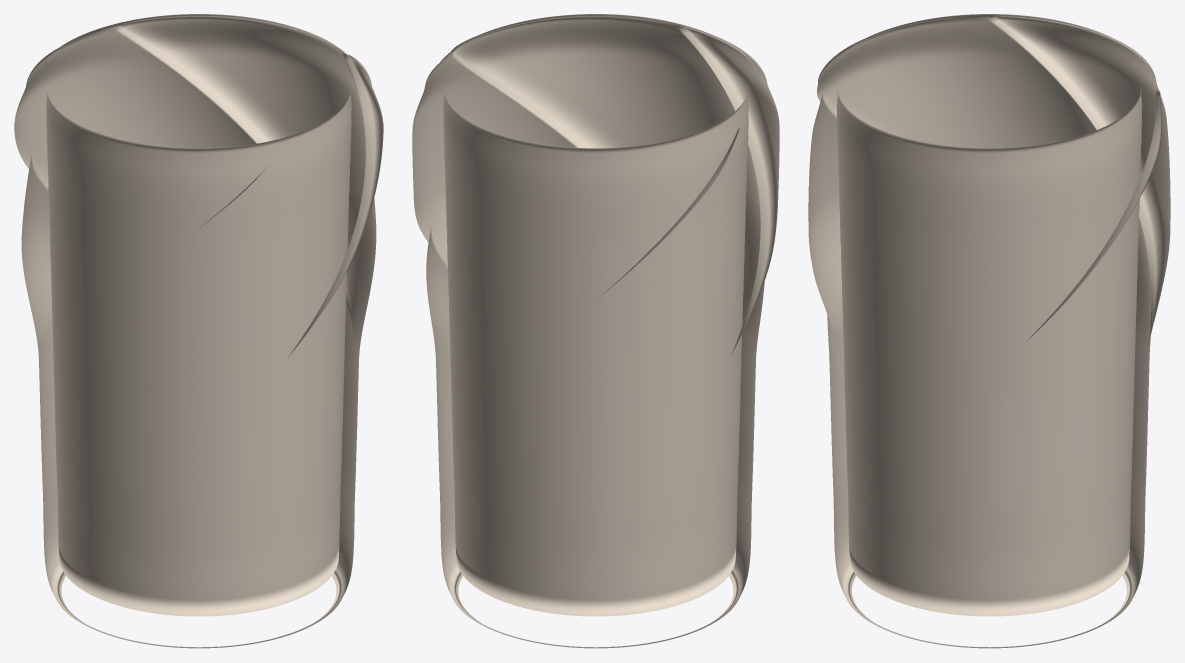
File: portaspazzolini.glb
The picture shows the model from 3 angles, left to right: view 1: azimuth 30°, elevation 25°; view 2: azimuth 150°, elevation 25°; view 3: azimuth 270°, elevation 25°; orthographic projection.
Bounding box in the file's own units: 0.0752 × 0.1167 × 0.0752.
